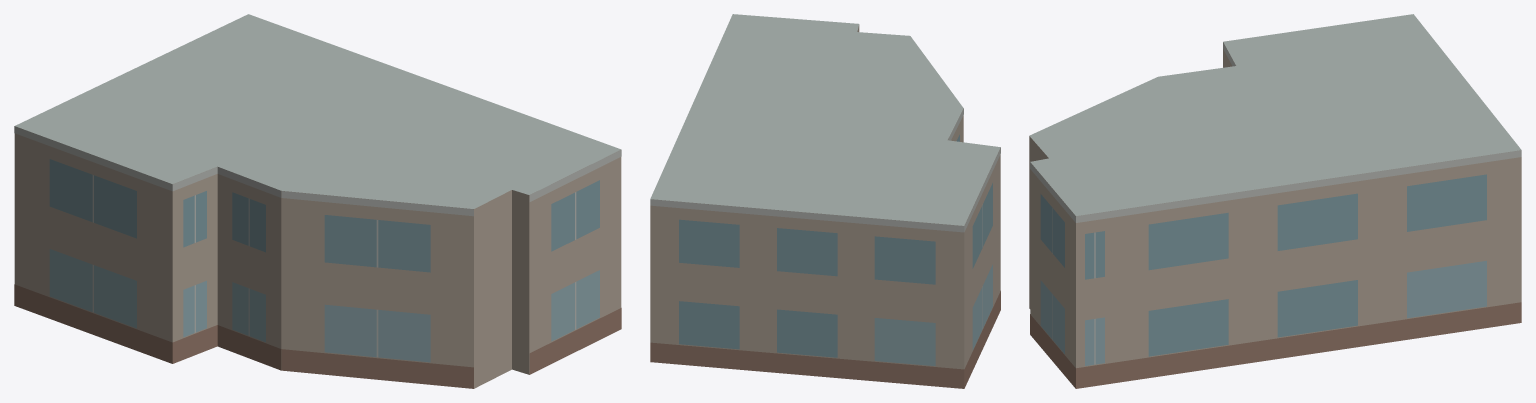
The model's file is survey-upis-32856548.glb.
3 views of the same model, side by side, from view 1: azimuth 30°, elevation 25°; view 2: azimuth 150°, elevation 25°; view 3: azimuth 270°, elevation 25° (orthographic). The views are drawn at different scales.
Visible parts, largest first — view 1: survey-upis-32856548.tmp; view 2: survey-upis-32856548.tmp; view 3: survey-upis-32856548.tmp.
Part boxes in pixels (bbox=[...]): survey-upis-32856548.tmp: bbox=[14, 14, 621, 388]; survey-upis-32856548.tmp: bbox=[650, 14, 1000, 388]; survey-upis-32856548.tmp: bbox=[1029, 14, 1521, 388].
Bounding box in the file's own units: 15.32 × 6.1 × 15.78.
